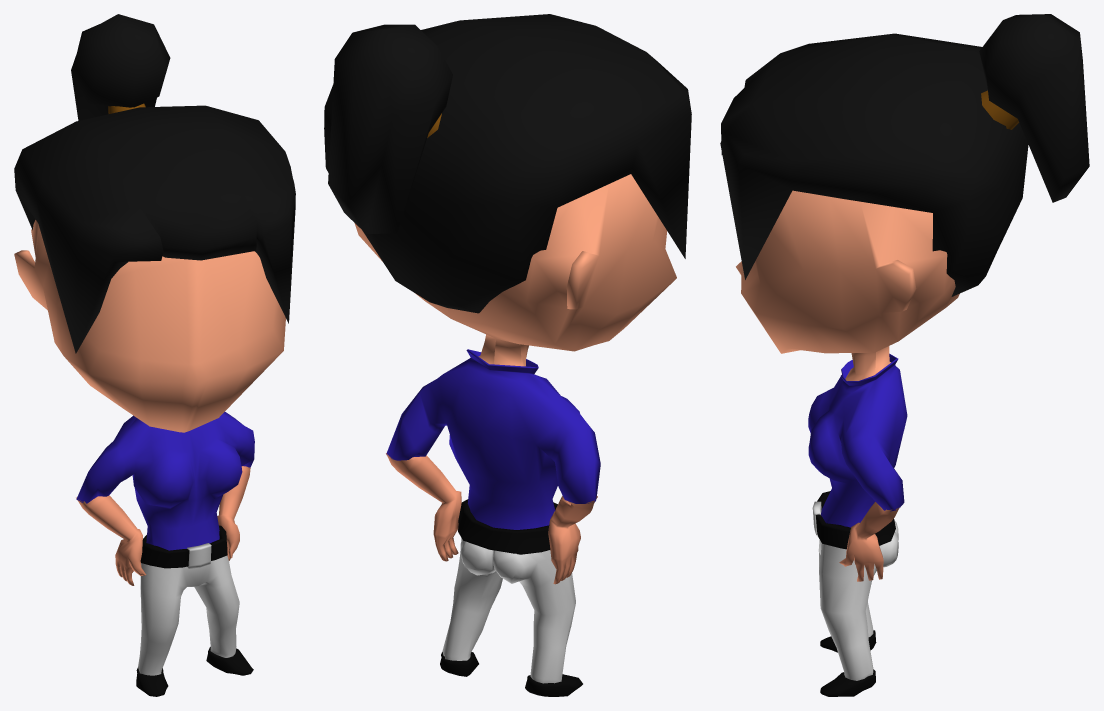
File: Female NPC - purple shirt,white pants.FBX
3 views of the same model, side by side, from view 1: azimuth 30°, elevation 25°; view 2: azimuth 150°, elevation 25°; view 3: azimuth 270°, elevation 25° (orthographic). The views are drawn at different scales.
Visible parts, largest first — view 1: Group002; view 2: Group002; view 3: Group002.
Boxes of the visible parts, box(x1,y1,x2,y2) form: Group002: box(14, 14, 295, 696); Group002: box(324, 14, 691, 696); Group002: box(720, 14, 1089, 696).
Bounding box in the file's own units: 85.87 × 102 × 202.
